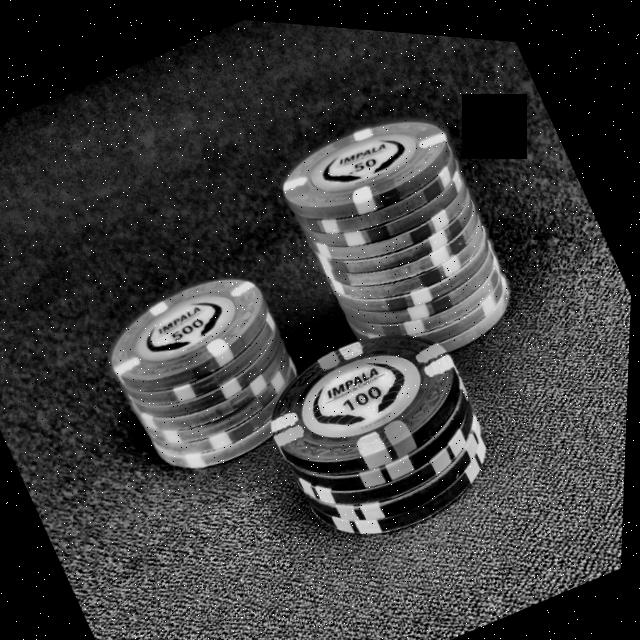Chip: (253, 66, 547, 395), (238, 284, 525, 571), (82, 237, 340, 504)
